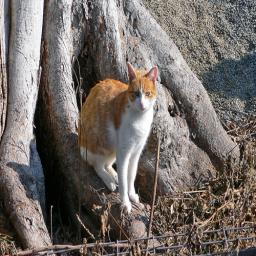catnose: (139, 101, 145, 108)
